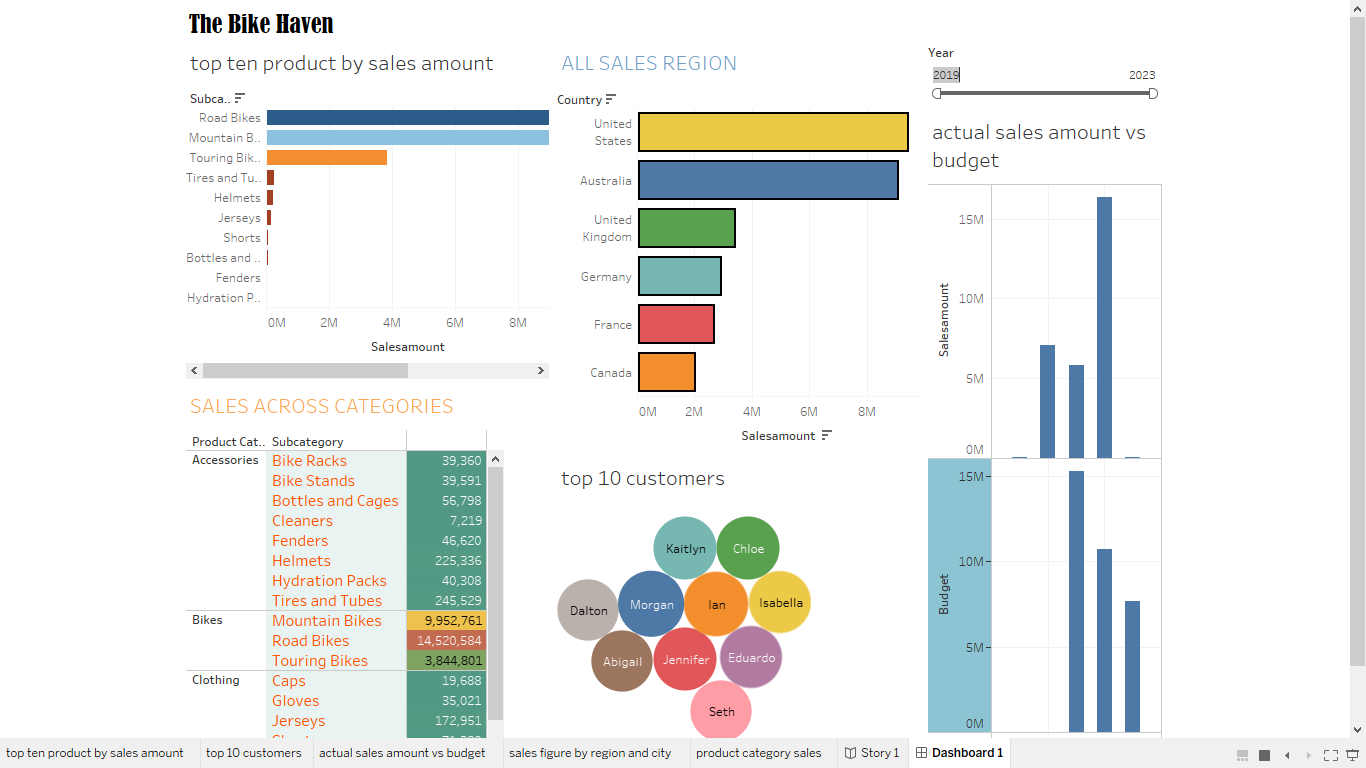

This screenshot's page, from the dashboard's own definition file:
{"tool":"tableau","page":{"name":"Dashboard 1","canvas":[1000,800],"ordinal":0},"visuals":[{"type":"text","box":[8,8,984,32]},{"type":"worksheet","title":"top ten product by sales amount ","mark":"Automatic","rows":["subcategory"],"cols":["salesamount"],"box":[8,40,371,343]},{"type":"worksheet","title":"sales figure by region and city ","mark":"Automatic","rows":["country"],"cols":["salesamount"],"box":[379,40,371,415]},{"type":"filter","title":"actual sales amount vs budget ","param":"[federated.0bkvou90eljt7i1g6r9kt1dexfxj].[none:year:qk]","box":[750,40,242,69]},{"type":"worksheet","title":"actual sales amount vs budget ","mark":"Bar","rows":["salesamount","Budget"],"cols":["year"],"box":[750,109,242,683]},{"type":"worksheet","title":"product category sales ","mark":"Square","rows":["product_category","subcategory"],"box":[8,383,371,409]},{"type":"worksheet","title":"top 10 customers","mark":"Circle","box":[379,455,371,305]}]}

Visuals, with their boxes on the page's 1000x800 design canvas (x1, y1, x2, y2). These are canvas units, not pixel positions in the 1366x768 screenshot, which may show the page scaled, cropped or inside an application window:
text: bbox=[8, 8, 992, 40]
"top ten product by sales amount " worksheet: bbox=[8, 40, 379, 383]
"sales figure by region and city " worksheet: bbox=[379, 40, 750, 455]
"actual sales amount vs budget " filter: bbox=[750, 40, 992, 109]
"actual sales amount vs budget " worksheet (Bar marks): bbox=[750, 109, 992, 792]
"product category sales " worksheet (Square marks): bbox=[8, 383, 379, 792]
"top 10 customers" worksheet (Circle marks): bbox=[379, 455, 750, 760]
